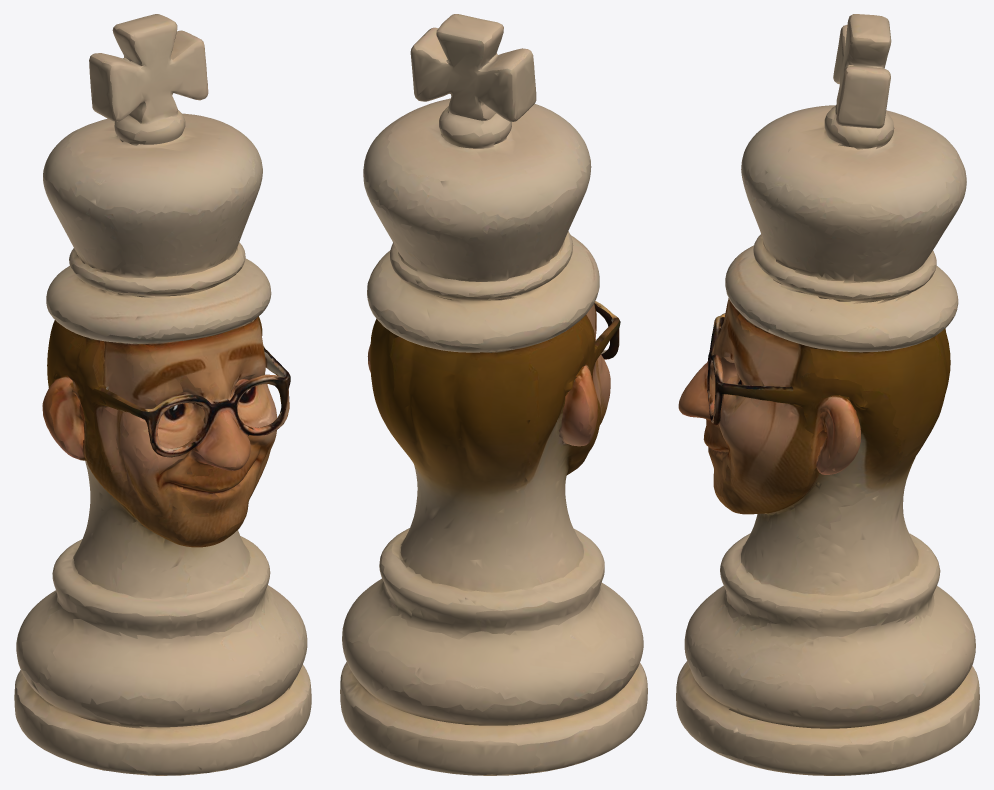
Rendered from fun_king.glb.
3 views of the same model, side by side, from view 1: azimuth 30°, elevation 25°; view 2: azimuth 150°, elevation 25°; view 3: azimuth 270°, elevation 25° (orthographic). The views are drawn at different scales.
Visible parts, largest first — view 1: Object_2; view 2: Object_2; view 3: Object_2.
Boxes of the visible parts, x1,y1,x2,y2 form: Object_2: (14,14,311,775); Object_2: (340,14,647,775); Object_2: (676,14,979,775).
Bounding box in the file's own units: 0.7888 × 1.99 × 0.7883.
Materials: 1 (1 with a texture image).
